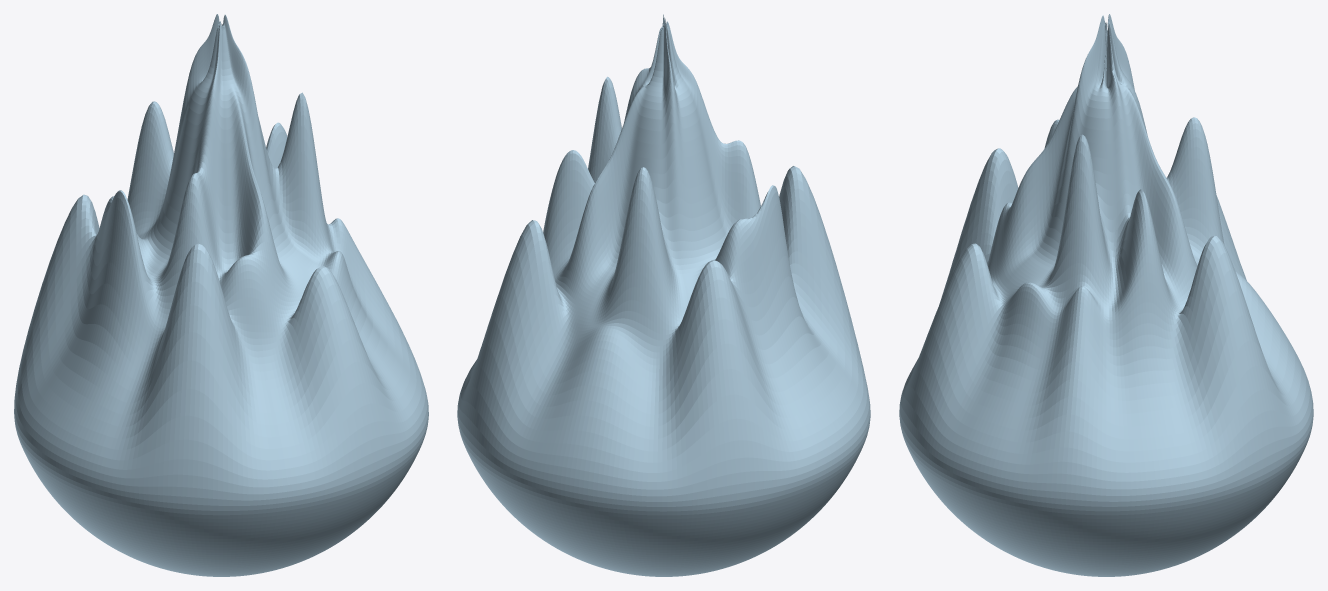
File: IcePU.fbx
3 renders of one model, left to right at view 1: azimuth 30°, elevation 25°; view 2: azimuth 150°, elevation 25°; view 3: azimuth 270°, elevation 25°, orthographic.
Parts seen in each view (by area): view 1: Sphere; view 2: Sphere; view 3: Sphere.
Part boxes in pixels (x1,y1,x2,y2): Sphere: (14,14,428,576); Sphere: (457,14,870,576); Sphere: (899,14,1313,576).
Size of the model in its own units: 187 by 271 by 187.
